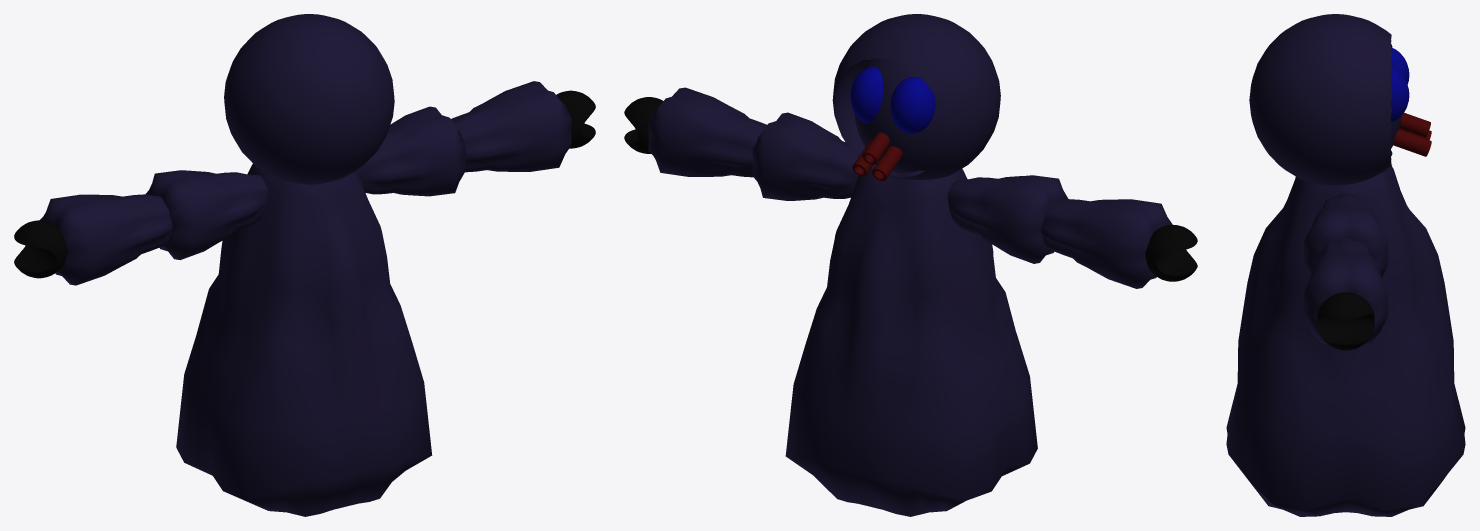
File: monster_enemy.glb
3 renders of one model, left to right at view 1: azimuth 30°, elevation 25°; view 2: azimuth 150°, elevation 25°; view 3: azimuth 270°, elevation 25°, orthographic. The views are drawn at different scales.
Parts seen in each view (by area): view 1: Sphere, Sphere.010, Sphere.004, Sphere.002, Sphere.006, Sphere.001, Sphere.003, Sphere.005; view 2: Sphere, Sphere.010, Sphere.004, Sphere.002, Sphere.001, Sphere.006, Sphere.007, Sphere.003, Sphere.009, Sphere.008, Sphere.005; view 3: Sphere, Sphere.010, Sphere.002, Sphere.001, Sphere.005, Sphere.008, Cylinder, Cylinder.002, Sphere.009.
Part boxes in pixels (x1=…): Sphere: x1=176, y1=163, x2=432, y2=516; Sphere.010: x1=224, y1=14, x2=394, y2=184; Sphere.004: x1=40, y1=194, x2=172, y2=285; Sphere.002: x1=451, y1=81, x2=571, y2=172; Sphere.006: x1=146, y1=170, x2=267, y2=259; Sphere.001: x1=357, y1=106, x2=465, y2=196; Sphere.003: x1=14, y1=220, x2=67, y2=278; Sphere.005: x1=556, y1=90, x2=595, y2=148; Sphere: x1=785, y1=162, x2=1037, y2=516; Sphere.010: x1=832, y1=14, x2=1000, y2=179; Sphere.004: x1=1041, y1=199, x2=1172, y2=288; Sphere.002: x1=648, y1=87, x2=766, y2=177; Sphere.001: x1=752, y1=112, x2=858, y2=200; Sphere.006: x1=947, y1=175, x2=1068, y2=263; Sphere.007: x1=854, y1=58, x2=944, y2=172; Sphere.003: x1=1145, y1=224, x2=1197, y2=281; Sphere.009: x1=890, y1=77, x2=935, y2=133; Sphere.008: x1=850, y1=66, x2=883, y2=122; Sphere.005: x1=624, y1=97, x2=662, y2=153; Sphere: x1=1226, y1=166, x2=1465, y2=516; Sphere.010: x1=1249, y1=14, x2=1392, y2=185; Sphere.002: x1=1303, y1=238, x2=1388, y2=344; Sphere.001: x1=1303, y1=192, x2=1388, y2=276; Sphere.005: x1=1317, y1=292, x2=1374, y2=350; Sphere.008: x1=1390, y1=68, x2=1409, y2=121; Cylinder: x1=1392, y1=129, x2=1431, y2=156; Cylinder.002: x1=1399, y1=112, x2=1430, y2=137; Sphere.009: x1=1390, y1=47, x2=1409, y2=84.
Bounding box in the file's own units: 8.96 × 6.88 × 3.2.
